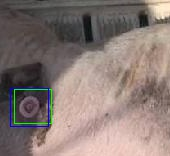text: (14, 89, 51, 123)
